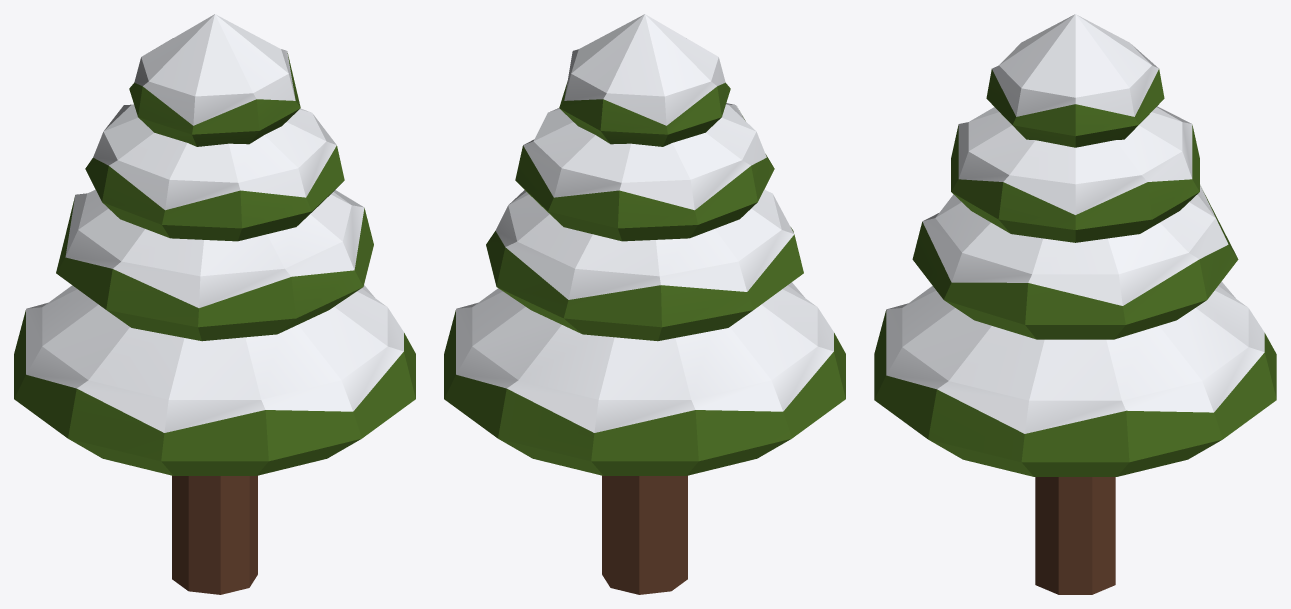
The model's file is pine-tree.glb.
3 views of the same model, side by side, from view 1: azimuth 30°, elevation 25°; view 2: azimuth 150°, elevation 25°; view 3: azimuth 270°, elevation 25° (orthographic).
Visible parts, largest first — view 1: pine-tree; view 2: pine-tree; view 3: pine-tree.
Part boxes in pixels (x1,y1,x2,y2): pine-tree: [14, 14, 415, 594]; pine-tree: [444, 14, 845, 594]; pine-tree: [874, 14, 1276, 594].
Bounding box in the file's own units: 2.2 × 3.4 × 2.2.
1 material, 1 textured.
